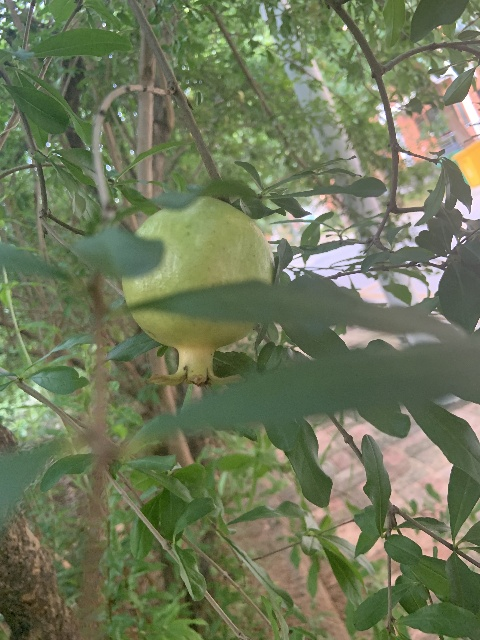mid-growth: (120, 196, 273, 389)
